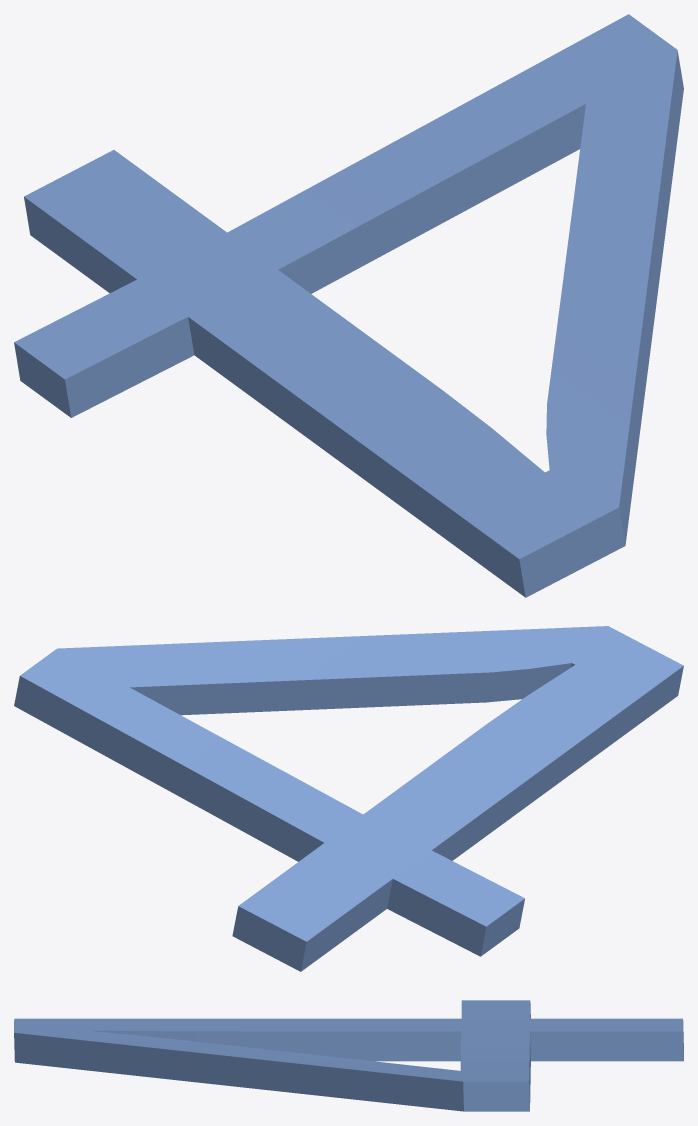
File: New_Number_4.gltf
The picture shows the model from 3 angles, top to bottom: view 1: azimuth 30°, elevation 25°; view 2: azimuth 150°, elevation 25°; view 3: azimuth 270°, elevation 25°; orthographic projection. The views are drawn at different scales.
Visible parts, largest first — view 1: Part 283; view 2: Part 283; view 3: Part 283.
Boxes of the visible parts, bbox=[...] form: Part 283: bbox=[14, 14, 683, 597]; Part 283: bbox=[14, 626, 683, 971]; Part 283: bbox=[14, 1000, 683, 1111].
Size of the model in its own units: 0.004 by 0.00135 by 0.00553.
